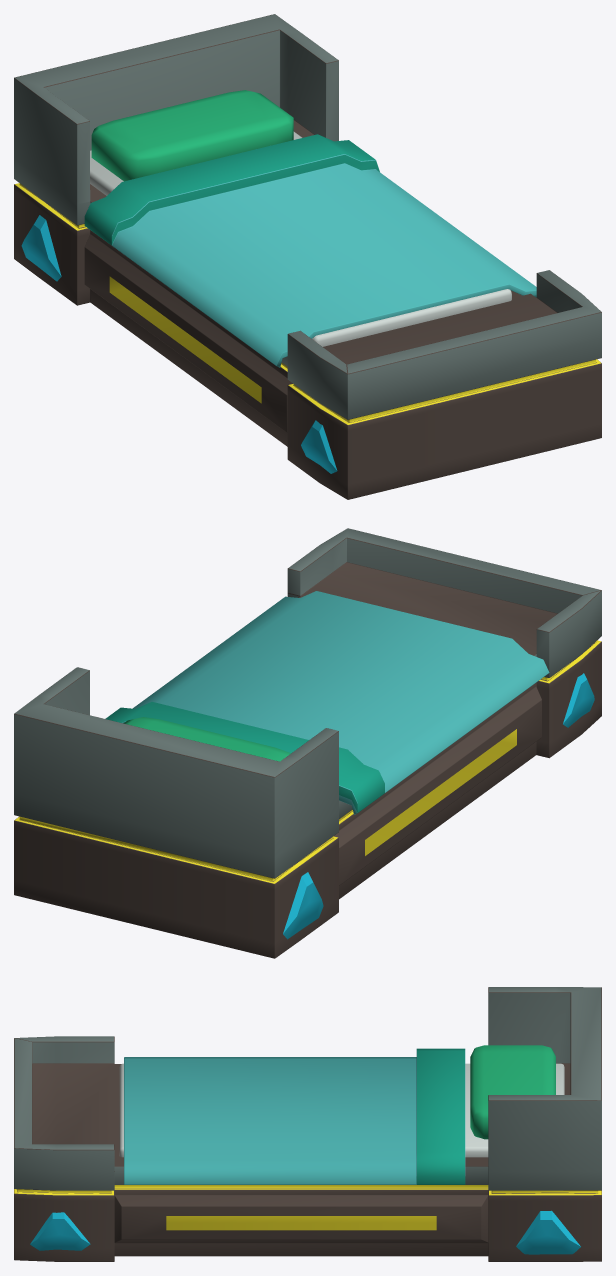
Rendered from SM_Bed1.fbx.
The picture shows the model from 3 angles, top to bottom: view 1: azimuth 30°, elevation 25°; view 2: azimuth 150°, elevation 25°; view 3: azimuth 270°, elevation 25°; orthographic projection. The views are drawn at different scales.
Parts seen in each view (by area): view 1: SM_Bed1_LOD0; view 2: SM_Bed1_LOD0; view 3: SM_Bed1_LOD0.
Part boxes in pixels (bbox=[...]): SM_Bed1_LOD0: bbox=[14, 14, 601, 499]; SM_Bed1_LOD0: bbox=[14, 528, 601, 958]; SM_Bed1_LOD0: bbox=[14, 987, 601, 1261].
Bounding box in the file's own units: 93.62 × 196 × 59.47.
1 material, 1 textured.
